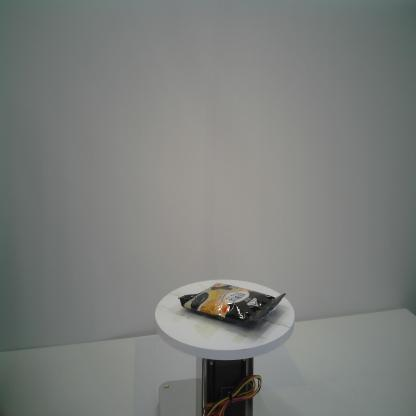Instant Drink: (178, 282, 286, 327)
